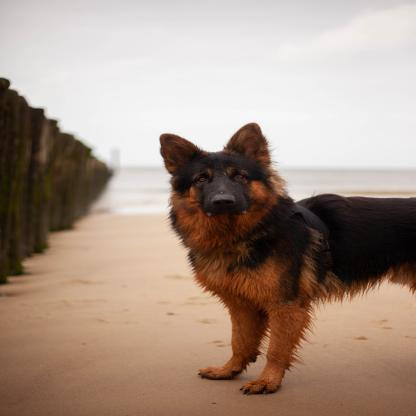german shepherd: (159, 125, 416, 392)
